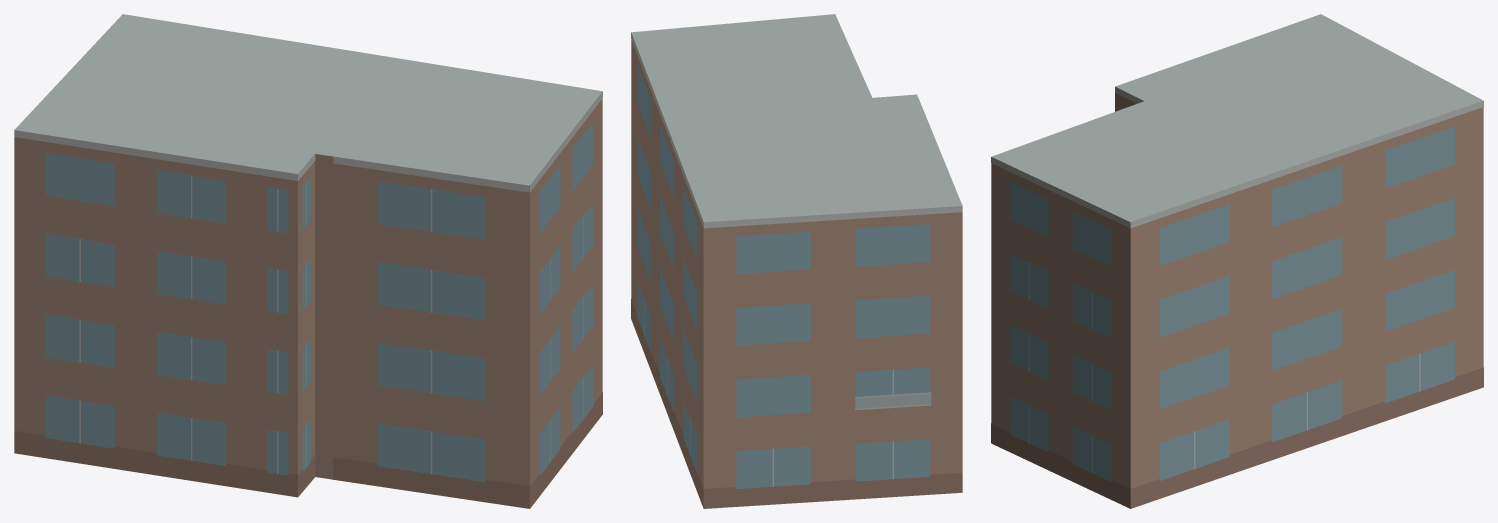
Rendered from survey-upis-32744296.glb.
3 views of the same model, side by side, from view 1: azimuth 30°, elevation 25°; view 2: azimuth 150°, elevation 25°; view 3: azimuth 270°, elevation 25° (orthographic). The views are drawn at different scales.
Visible parts, largest first — view 1: survey-upis-32744296.tmp; view 2: survey-upis-32744296.tmp; view 3: survey-upis-32744296.tmp.
Boxes of the visible parts, box(x1,y1,x2,y2) form: survey-upis-32744296.tmp: box(14, 14, 602, 508); survey-upis-32744296.tmp: box(631, 14, 962, 508); survey-upis-32744296.tmp: box(991, 14, 1483, 508).
Bounding box in the file's own units: 17.69 × 11.35 × 17.68.
